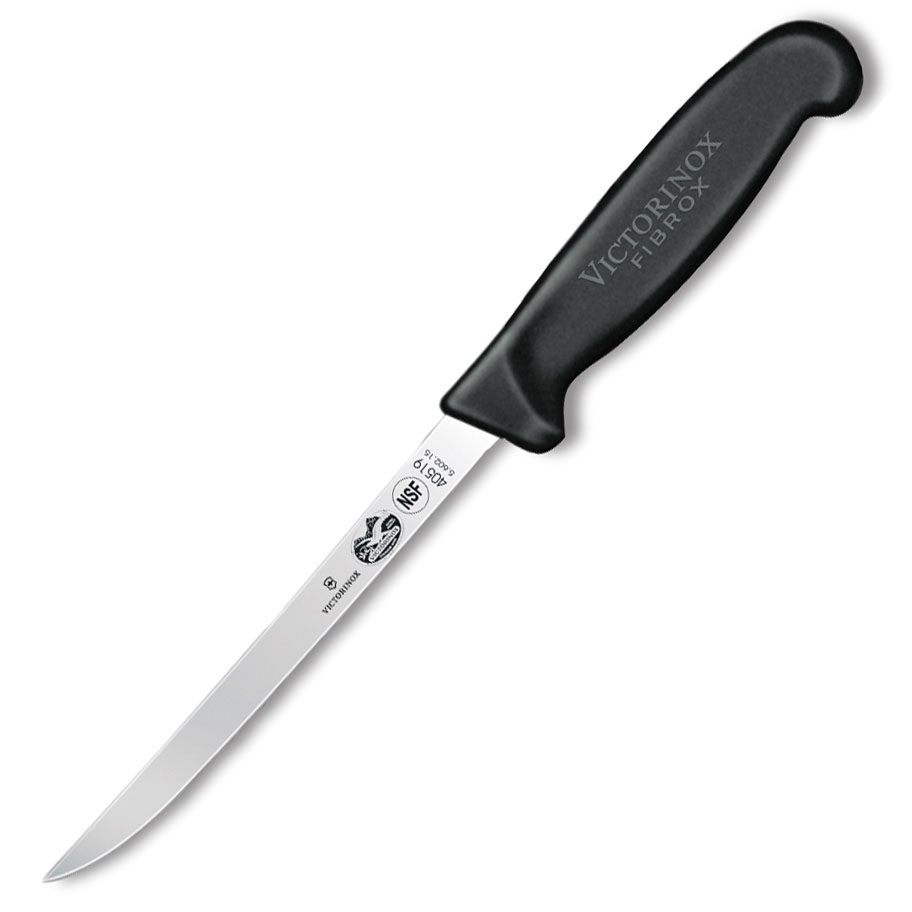knife: (8, 31, 882, 885)
